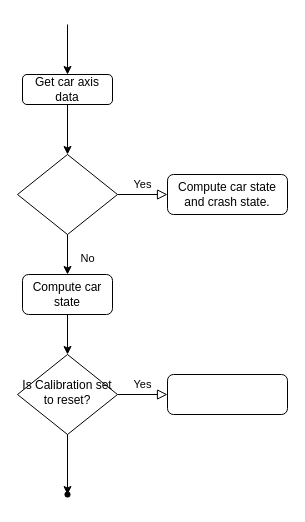
This 305x522 diagram has some shape labels left out. Here are the shapes that lost their labels. From the top down, the box of each, then its label:
(16, 154, 118, 234): Is car state normal?
(166, 374, 288, 414): Initialize again Crash Detection
